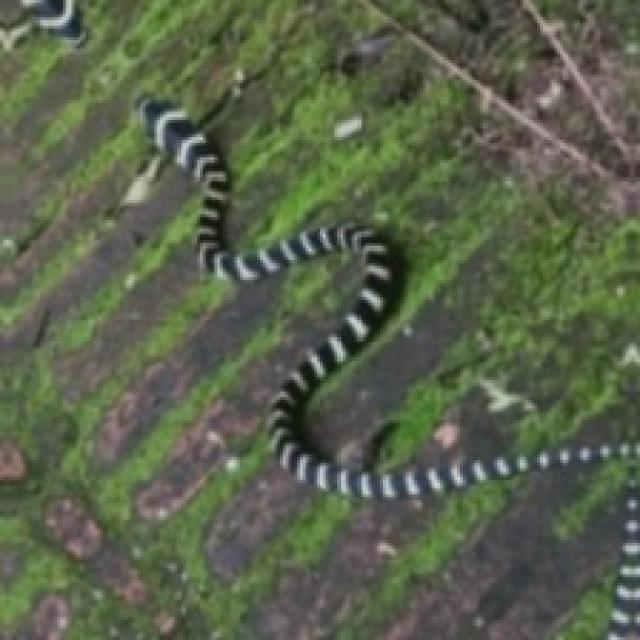king cobra: (137, 100, 637, 574), (383, 563, 497, 637)
